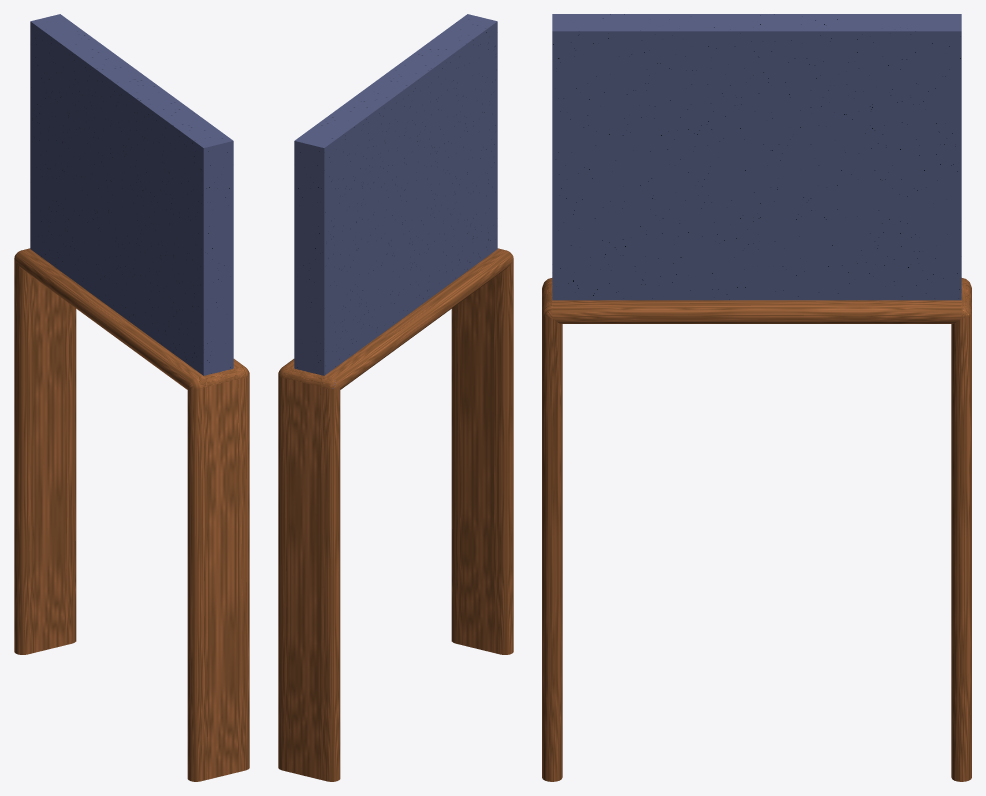
The model's file is PuertaInteriorMarco.fbx.
3 renders of one model, left to right at view 1: azimuth 30°, elevation 25°; view 2: azimuth 150°, elevation 25°; view 3: azimuth 270°, elevation 25°, orthographic. The views are drawn at different scales.
Visible parts, largest first — view 1: PuertaInteriorMarco; view 2: PuertaInteriorMarco; view 3: PuertaInteriorMarco.
Boxes of the visible parts, left/top/right/bottom form: PuertaInteriorMarco: left=14, top=14, right=249, bottom=781; PuertaInteriorMarco: left=278, top=14, right=513, bottom=781; PuertaInteriorMarco: left=542, top=14, right=971, bottom=781.
Size of what is drawn, in the model's own units: 210 by 40 by 400.
